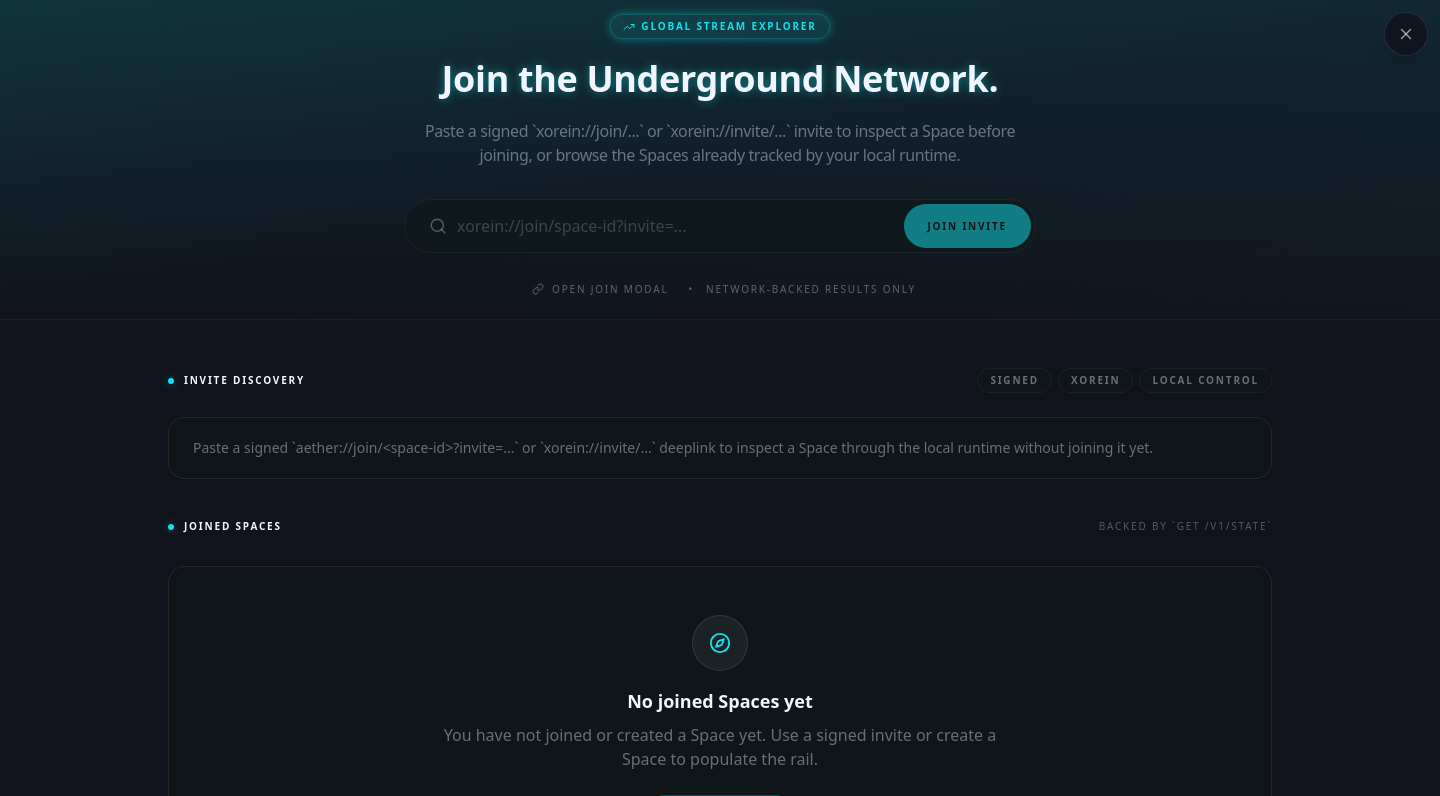
Scenario: ServerExplorer › normalizes malformed invite previews before rendering discovery cards
The width and height of the screenshot is (1440, 796).
Type "xorein://invite/alpha" into the field with placeholder "xorein://join/space-id?invite=..." at (678, 226), box [457,204,900,248]
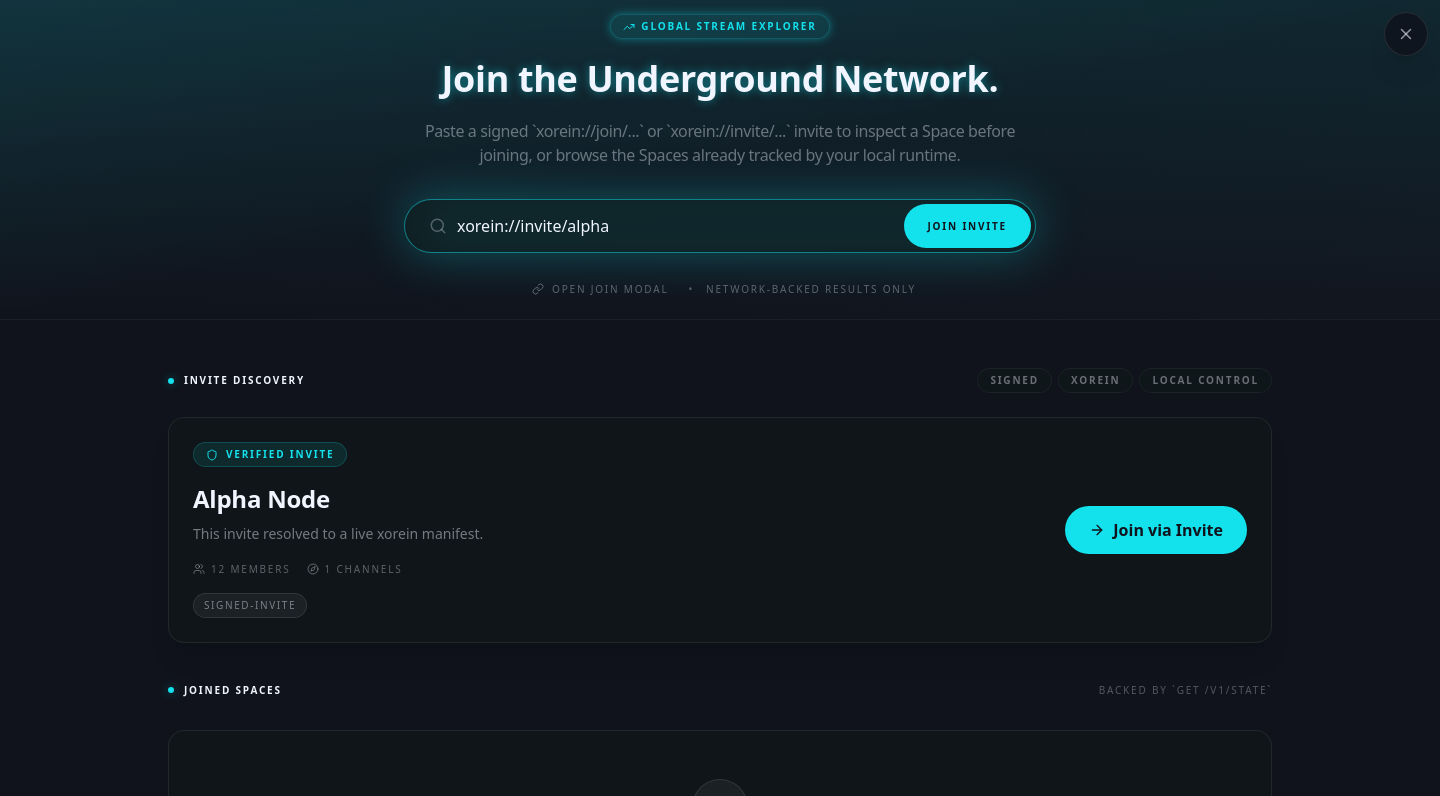
expect the heading "Alpha Node" is shown: met, box [193,482,330,515]
expect the text "This invite resolved to a live xorein manifest." is shown: met, box [193,523,483,546]
expect the text "12 members" is shown: met, box [193,562,290,577]
